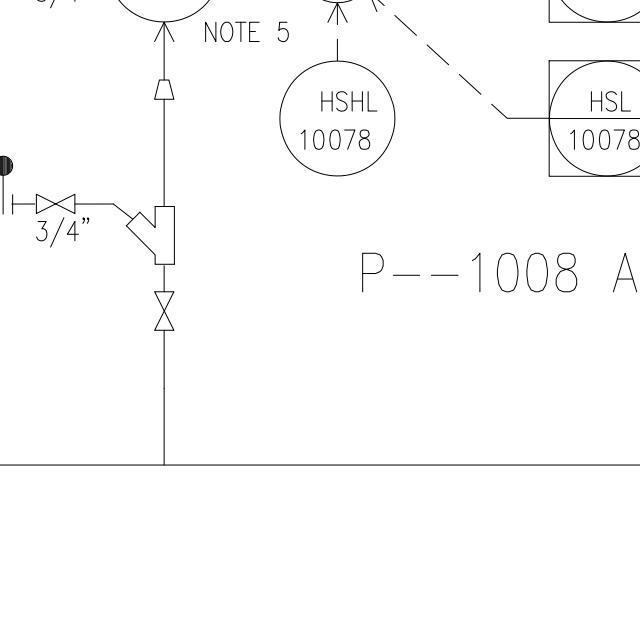GV: (150, 285, 180, 336), (31, 190, 78, 216)
SP: (151, 74, 178, 106)
